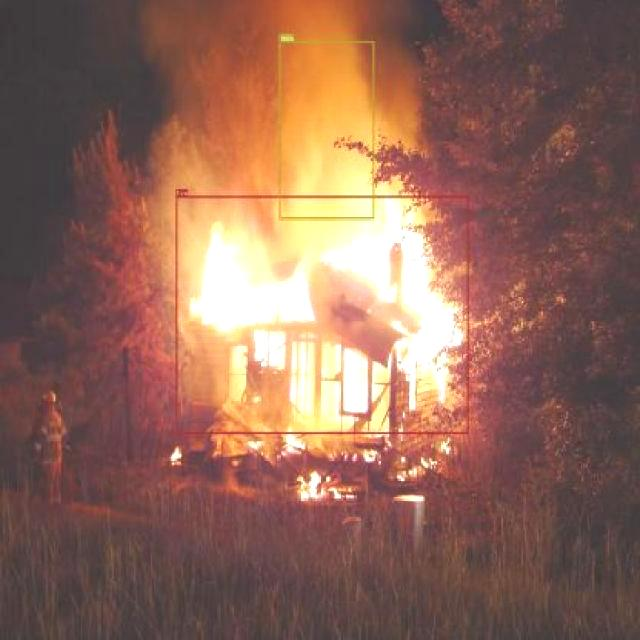fire: (176, 195, 469, 434)
smoke: (278, 40, 374, 218)
